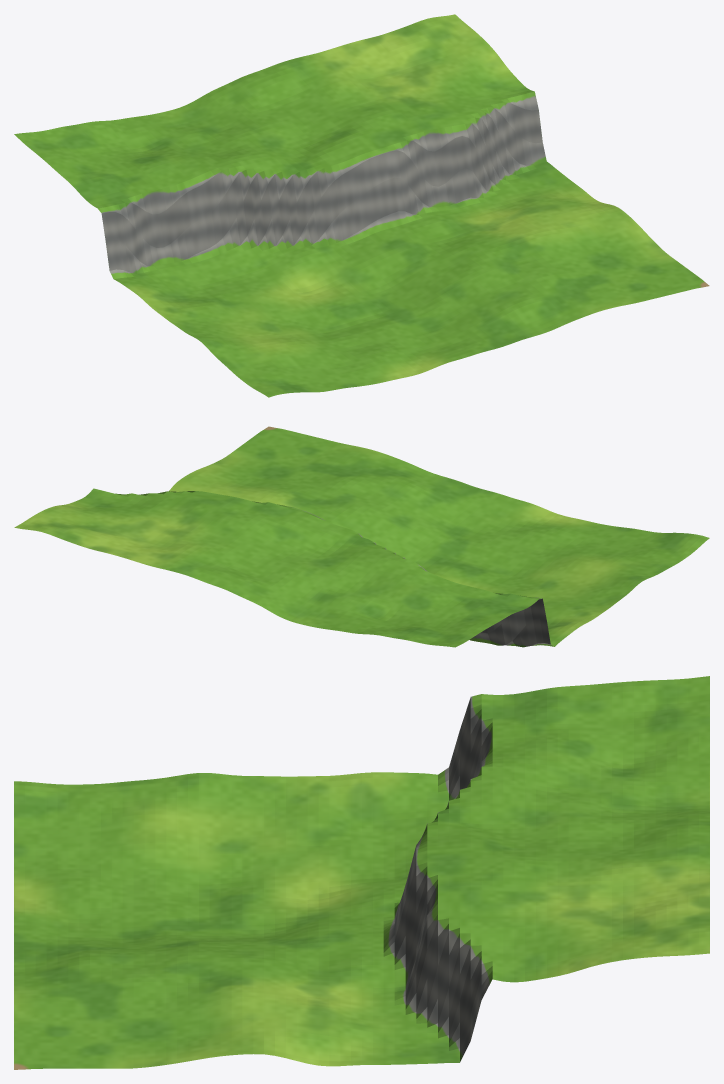
Rendered from chunk_0_1.fbx.
The picture shows the model from 3 angles, top to bottom: view 1: azimuth 30°, elevation 25°; view 2: azimuth 150°, elevation 25°; view 3: azimuth 270°, elevation 25°; orthographic projection. The views are drawn at different scales.
Visible parts, largest first — view 1: chunk_0_1; view 2: chunk_0_1; view 3: chunk_0_1.
Boxes of the visible parts, <box> form: chunk_0_1: <box>14,14,709,397</box>; chunk_0_1: <box>14,426,709,647</box>; chunk_0_1: <box>14,676,709,1069</box>.
Size of the model in its own units: 6400 by 6400 by 1483.
1 material, 1 textured.
